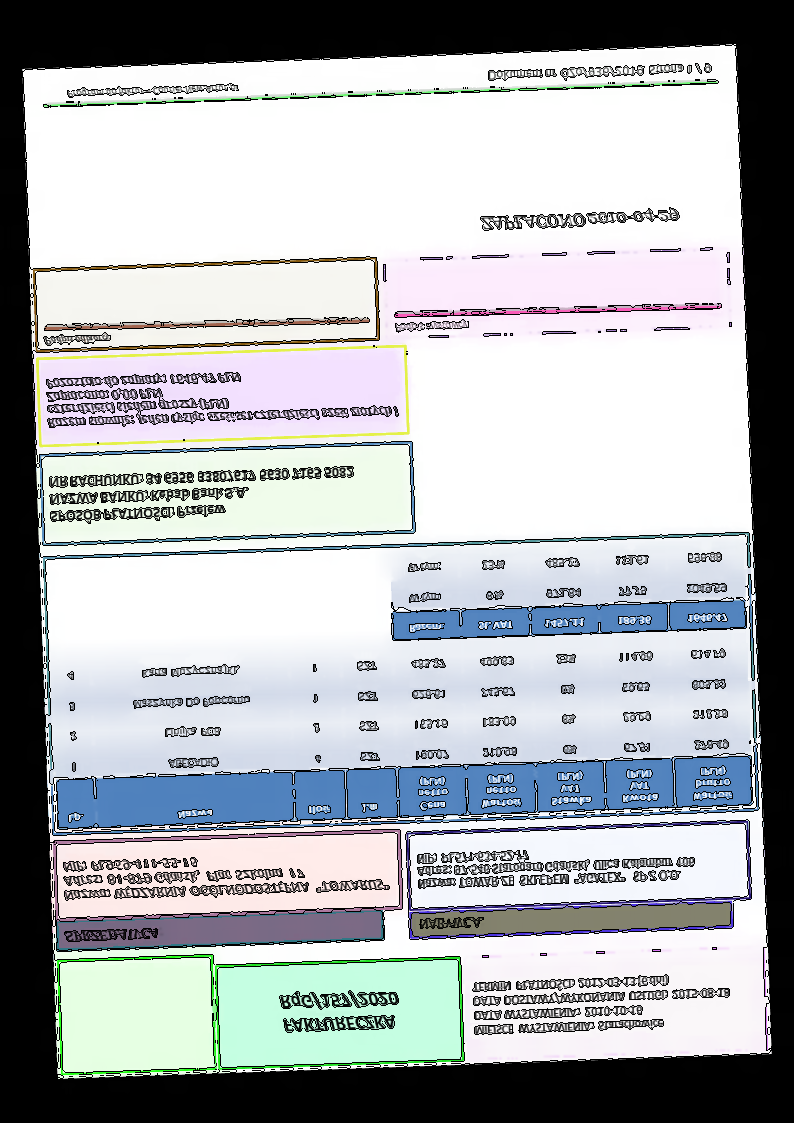Table: (50, 633, 753, 831), (388, 538, 748, 641)
TextBox: (43, 364, 401, 431), (45, 463, 358, 526), (60, 849, 391, 903), (470, 972, 733, 1037), (414, 843, 696, 891), (277, 985, 401, 1035), (478, 204, 681, 233), (486, 60, 712, 82), (63, 80, 240, 101), (61, 926, 164, 944), (417, 913, 486, 932), (393, 318, 471, 334), (41, 332, 116, 348)
